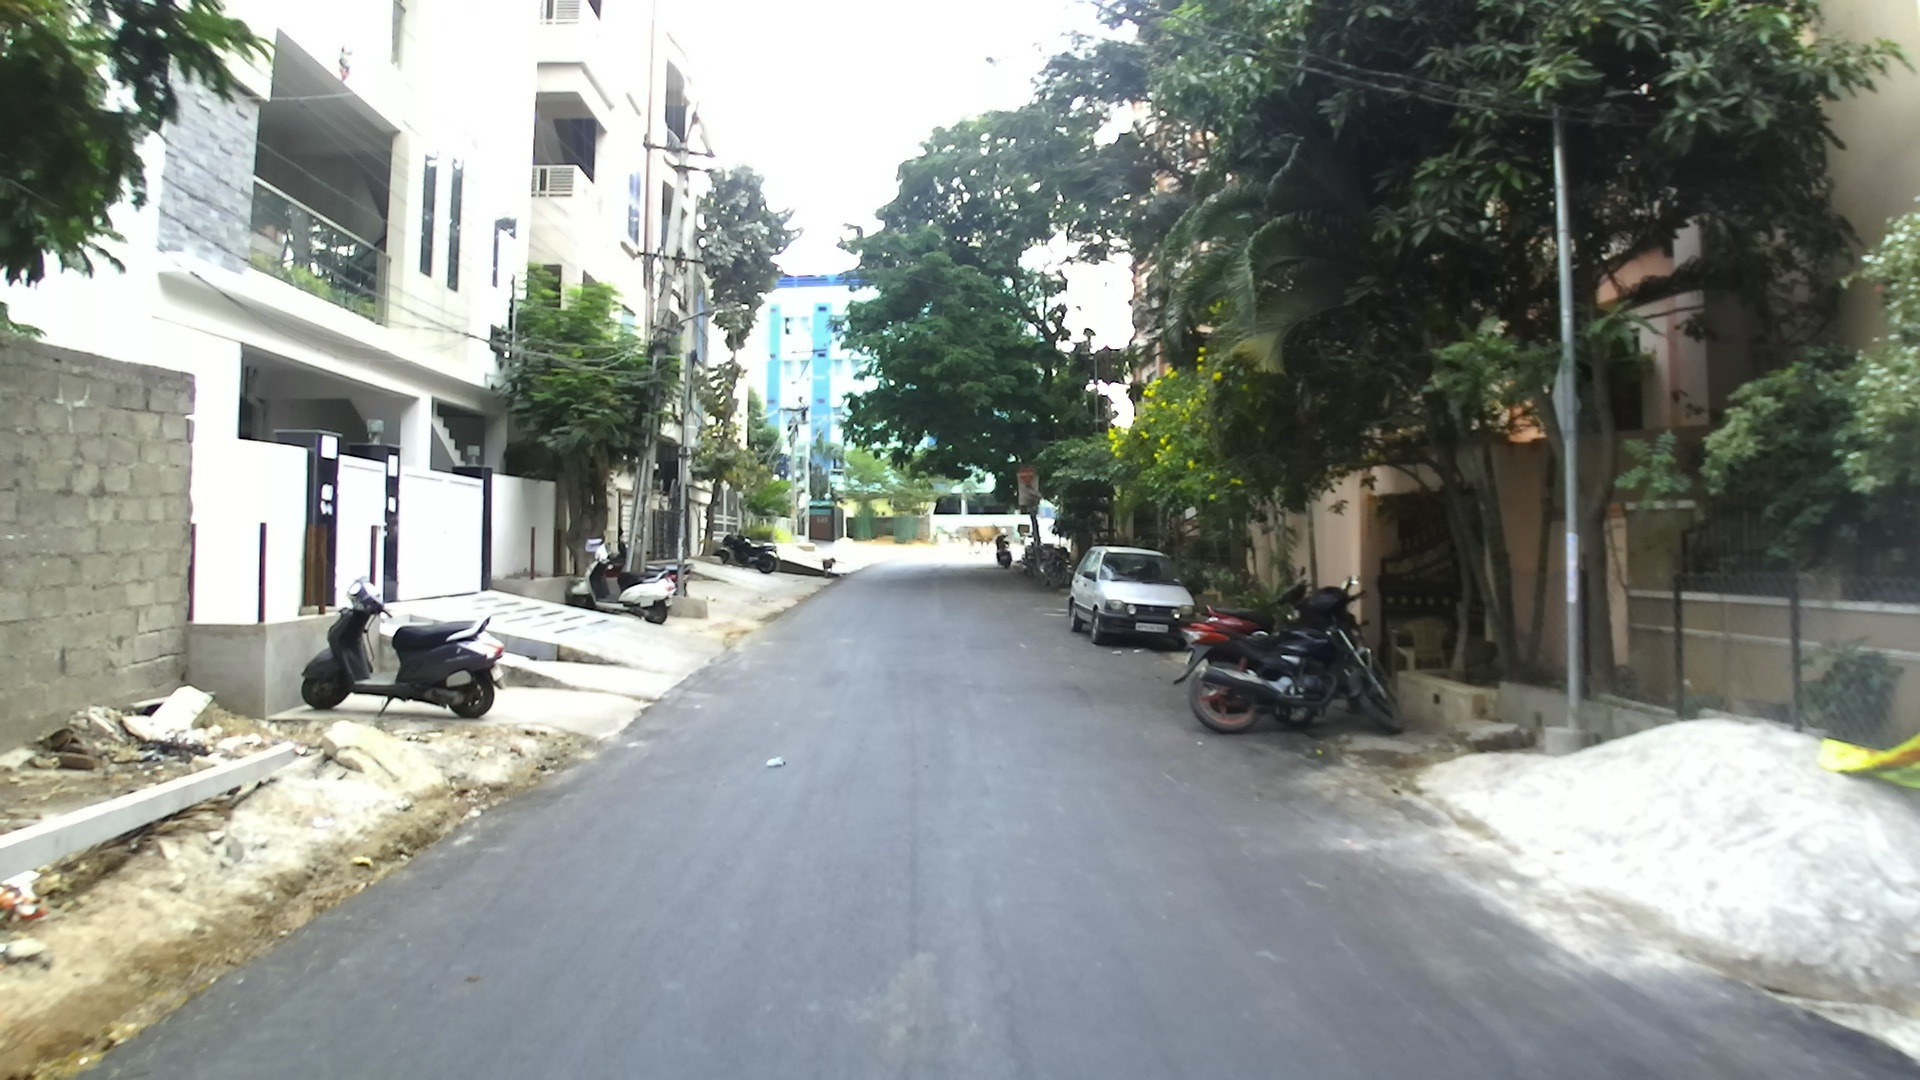vehicle: (1183, 589, 1404, 735), (1065, 546, 1197, 647), (571, 550, 686, 622)
